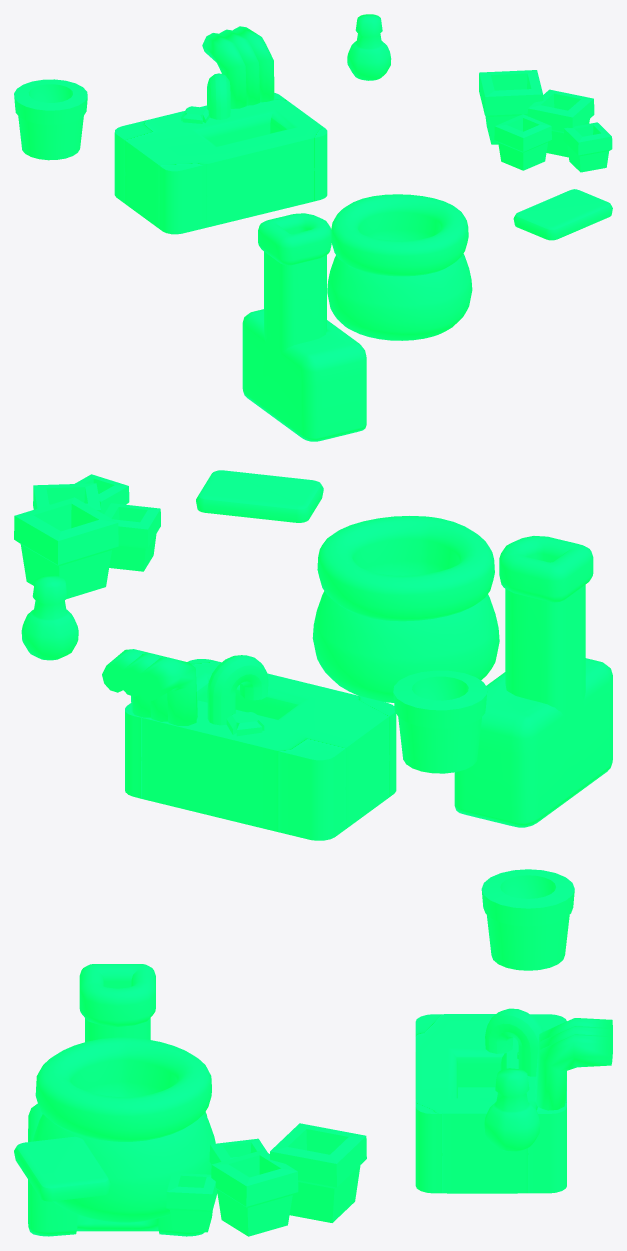
File: Kitchen_Outline.fbx
3 renders of one model, top to bottom at view 1: azimuth 30°, elevation 25°; view 2: azimuth 150°, elevation 25°; view 3: azimuth 270°, elevation 25°, orthographic. The views are drawn at different scales.
Parts seen in each view (by area): view 1: polySurface21, Furnace1, polySurface20, Medium_pot2, Bucket1, Chopping_board1, Potion_4; view 2: polySurface21, Furnace1, polySurface20, Medium_pot2, Bucket1, Chopping_board1, Potion_4; view 3: polySurface21, polySurface20, Medium_pot2, Furnace1, Bucket1, Chopping_board1, Potion_4.
Part boxes in pixels (x1,y1,x2,y2): polySurface21: (114,26,327,234); Furnace1: (242,213,366,441); polySurface20: (327,194,472,340); Medium_pot2: (479,70,612,172); Bucket1: (14,79,87,160); Chopping_board1: (513,189,612,240); Potion_4: (347,14,391,80); polySurface21: (102,649,396,840); Furnace1: (454,536,612,827); polySurface20: (312,516,499,702); Medium_pot2: (14,474,160,598); Bucket1: (393,670,487,773); Chopping_board1: (196,470,323,522); Potion_4: (21,575,78,660); polySurface21: (415,1008,612,1193); polySurface20: (32,1037,215,1222); Medium_pot2: (166,1123,366,1236); Furnace1: (28,964,207,1236); Bucket1: (481,869,574,970); Chopping_board1: (14,1136,110,1201); Potion_4: (484,1068,540,1151).
Size of the model in its own units: 35.57 by 16.56 by 31.71.
